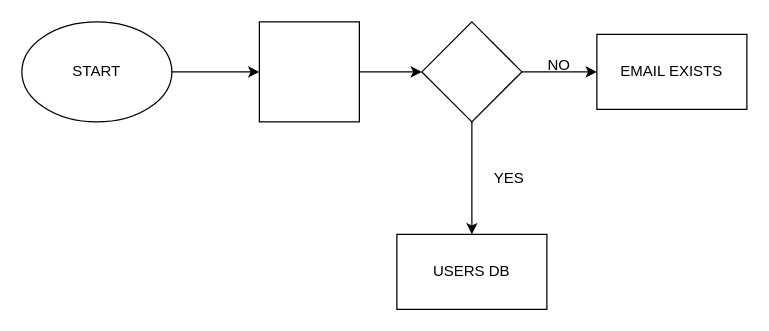
The diagram is 769 pixels wide and 331 high, and some of its shapes have lost their labels. Here are the shapes that lost their labels. From the top down, the centre of each, then its label:
At [308,71]: "EMAIL PASSWORD".
At [471,71]: "CHECK".
